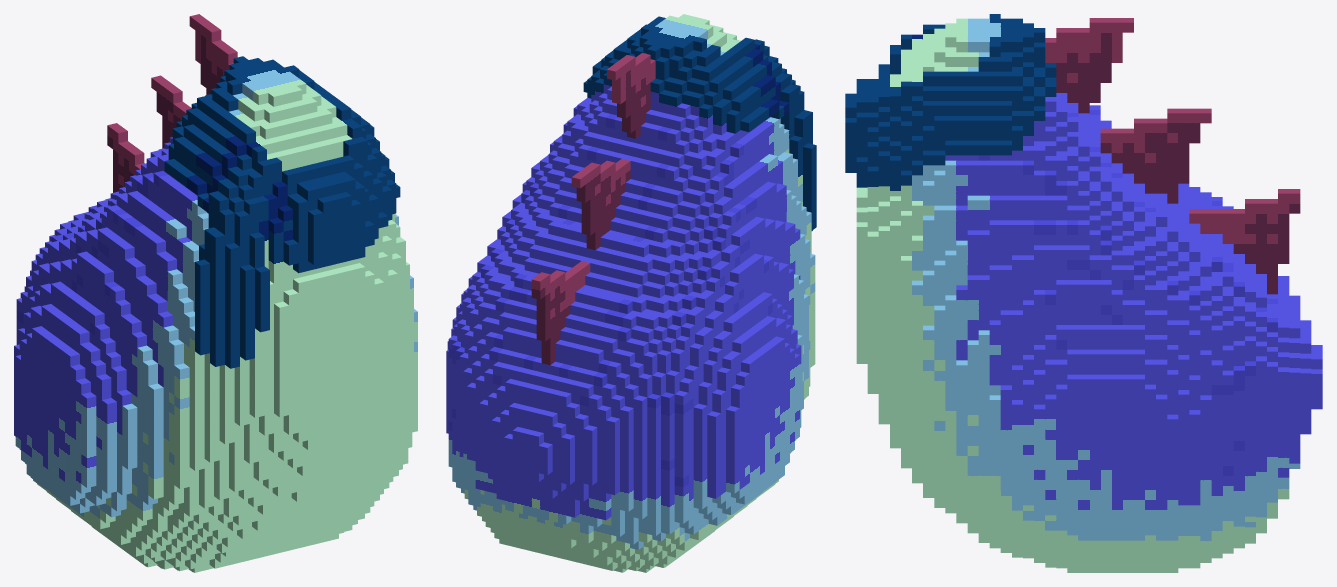
The model's file is blue scarf.gltf.
3 renders of one model, left to right at view 1: azimuth 30°, elevation 25°; view 2: azimuth 150°, elevation 25°; view 3: azimuth 270°, elevation 25°, orthographic. The views are drawn at different scales.
Parts seen in each view (by area): view 1: 03_Body_BlueScarf-Mesh; view 2: 03_Body_BlueScarf-Mesh; view 3: 03_Body_BlueScarf-Mesh.
Boxes of the visible parts, bbox=[...] form: 03_Body_BlueScarf-Mesh: bbox=[14, 14, 417, 572]; 03_Body_BlueScarf-Mesh: bbox=[446, 14, 816, 572]; 03_Body_BlueScarf-Mesh: bbox=[845, 14, 1322, 572].
Bounding box in the file's own units: 33 × 51 × 43.
Materials: 1 (1 with a texture image).
